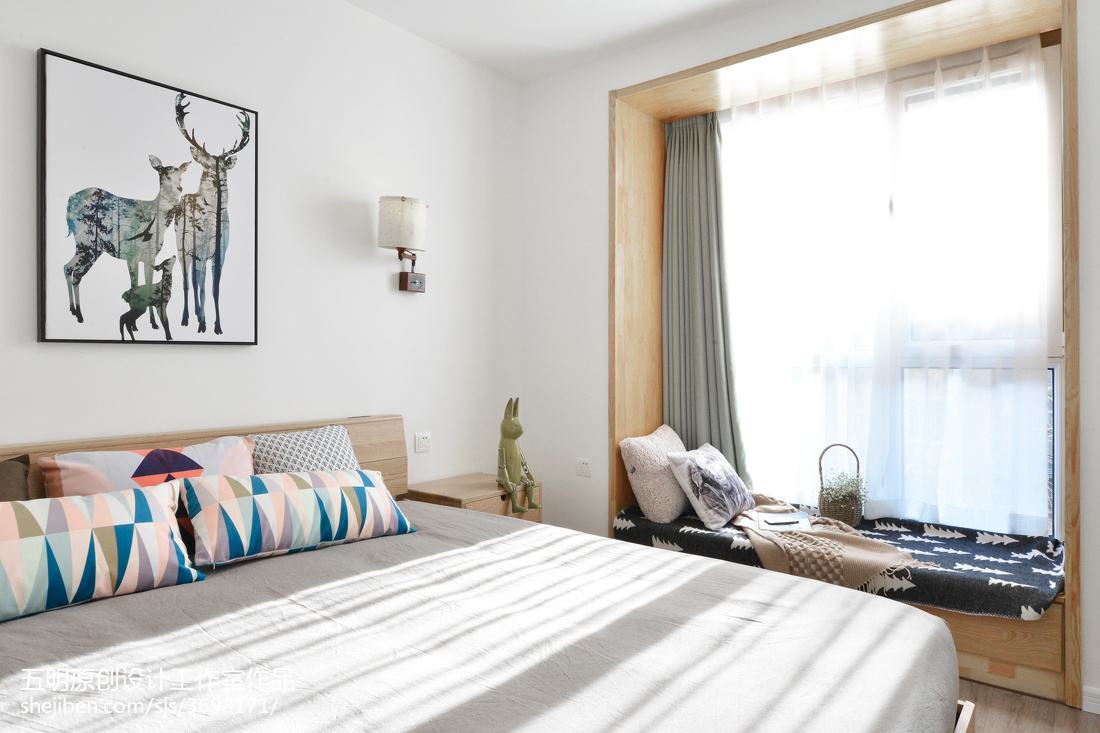床: (0, 500, 962, 733)
枕头: (36, 416, 409, 597), (608, 432, 760, 525)
灯: (375, 185, 429, 307)
